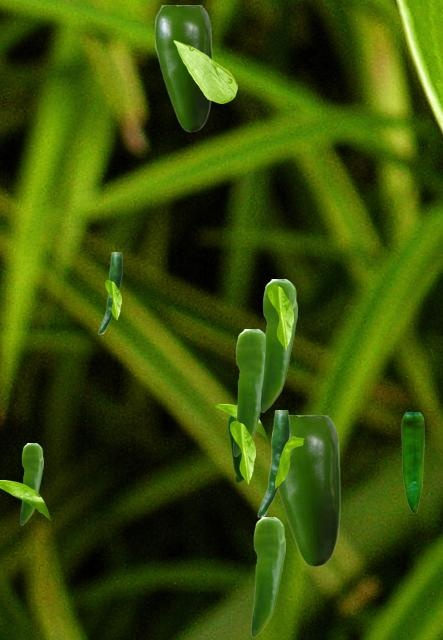green_chili: (278, 415, 339, 566), (155, 5, 211, 131), (260, 279, 296, 411), (251, 517, 284, 636), (233, 329, 264, 455), (257, 410, 288, 516), (401, 412, 423, 512), (98, 252, 121, 333), (20, 443, 42, 524), (228, 415, 244, 481)
